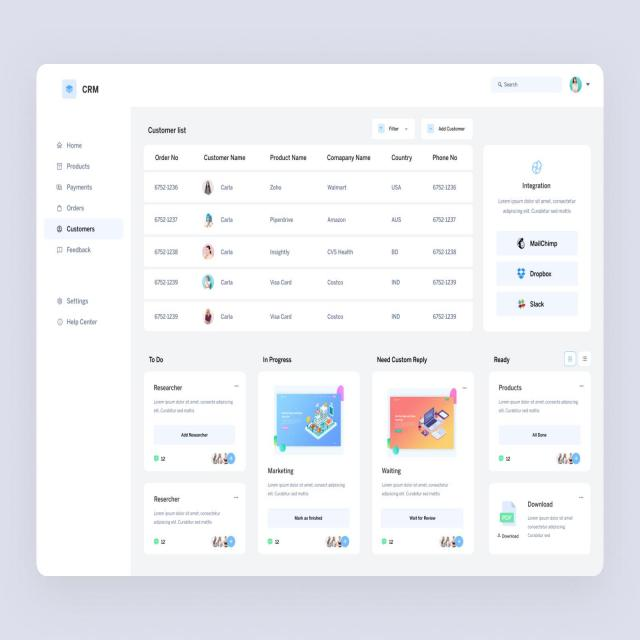button: (496, 229, 578, 257), (497, 293, 578, 317), (496, 263, 578, 286), (421, 118, 471, 138)
input: (491, 74, 563, 94)
